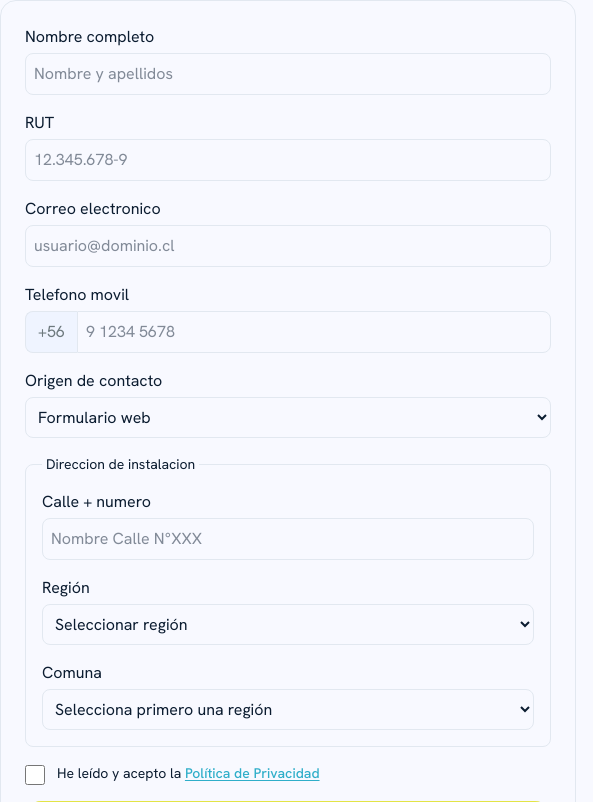
Test: CU-75: formulario de contratación › RUT, como lo escribe o pega una persona › pegar 12.345.678-5 deja 12.345.678-5
Step 1. Click the field labelled "RUT" → (288, 160), box [25,139,551,181]
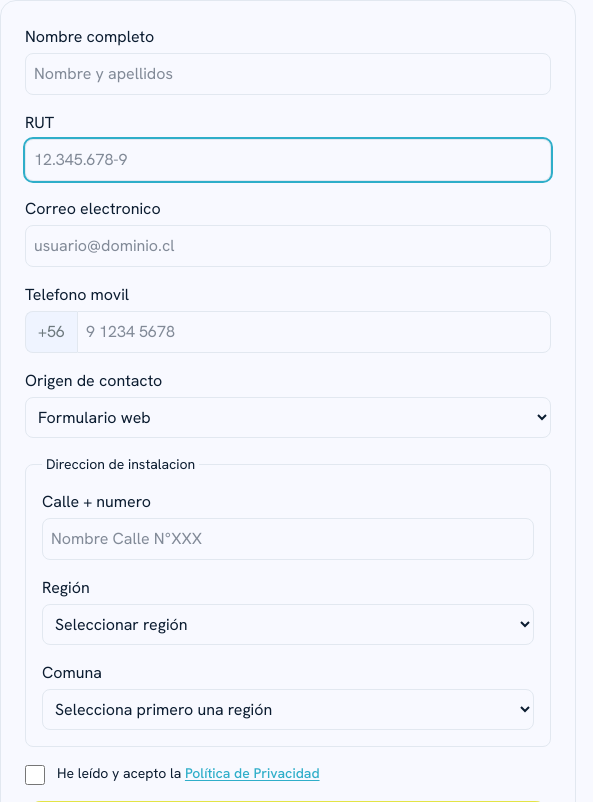
Step 2. Type keys "12.345.678-5"
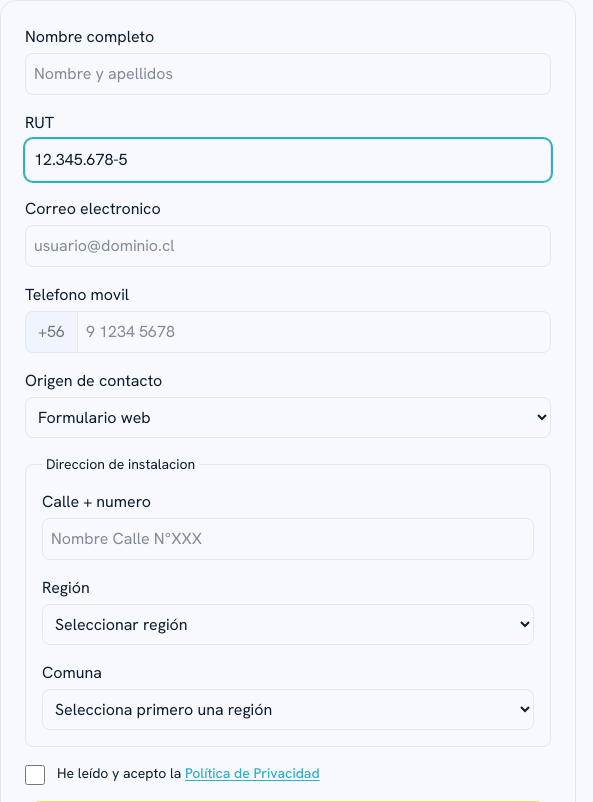
Expected: the field labelled "RUT" holds "12.345.678-5", [25,139,551,181]
